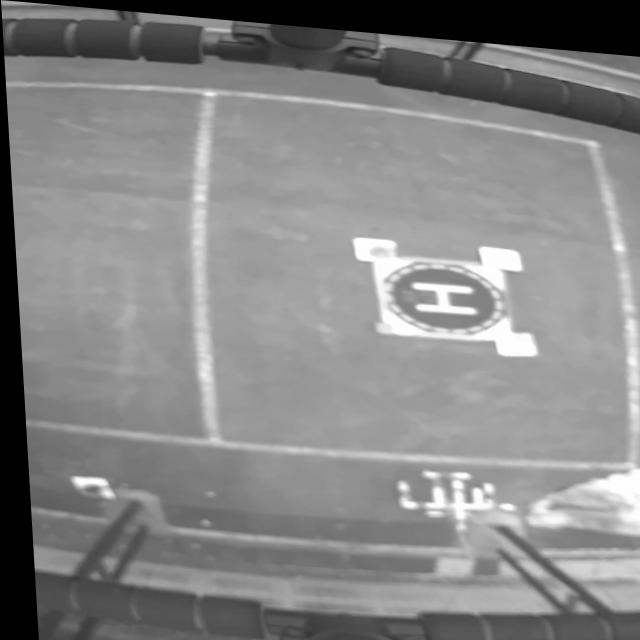Helipad: (407, 274, 473, 308)
